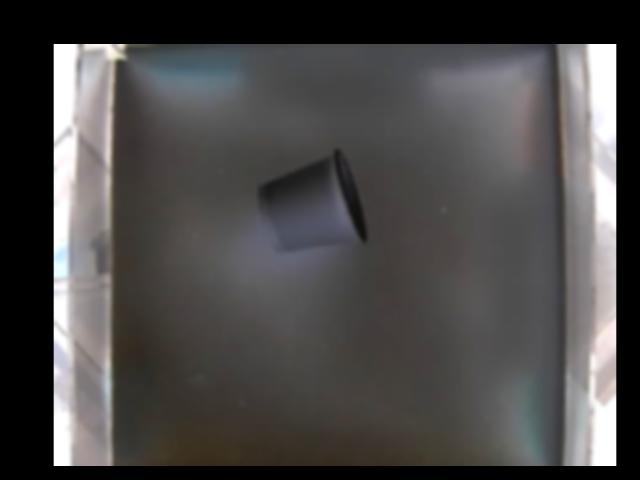Cup: (254, 148, 365, 254)
